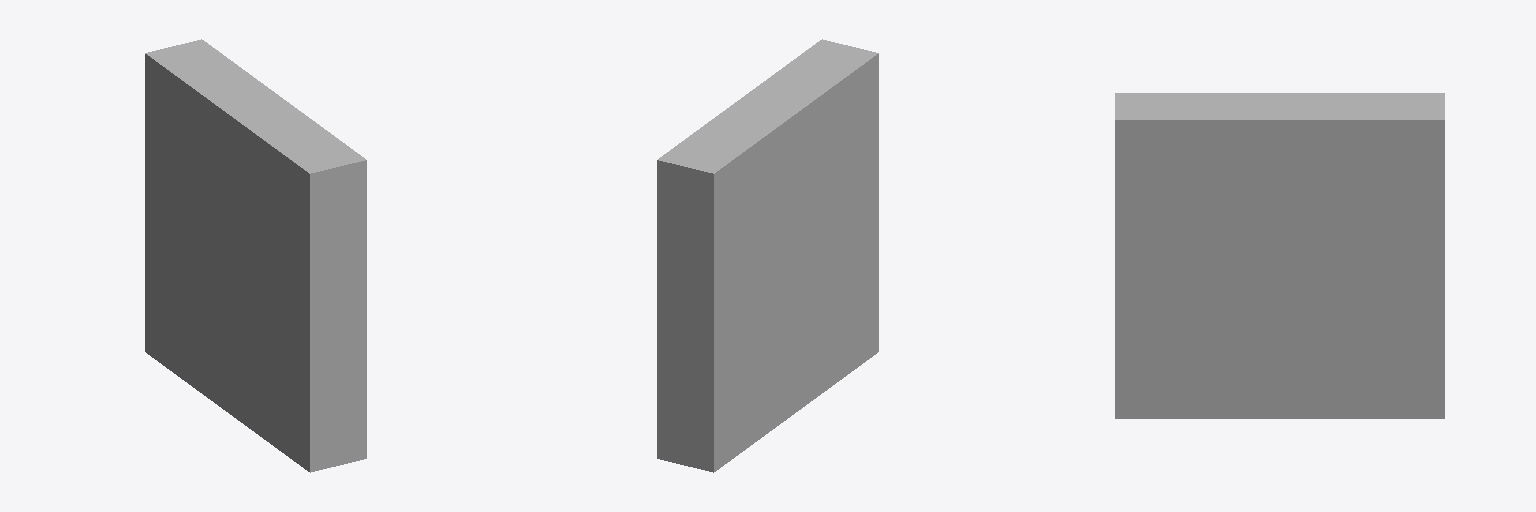
3 views of the same model, side by side, from view 1: azimuth 30°, elevation 25°; view 2: azimuth 150°, elevation 25°; view 3: azimuth 270°, elevation 25° (orthographic).
Visible parts, largest first — view 1: cube; view 2: cube; view 3: cube.
Part boxes in pixels (x1,y1,x2,y2): cube: (145,39,366,472); cube: (657,39,878,472); cube: (1115,93,1444,418).
Size of the model in its own units: 0.02 by 0.1 by 0.1.
1 materials, 1 textured.